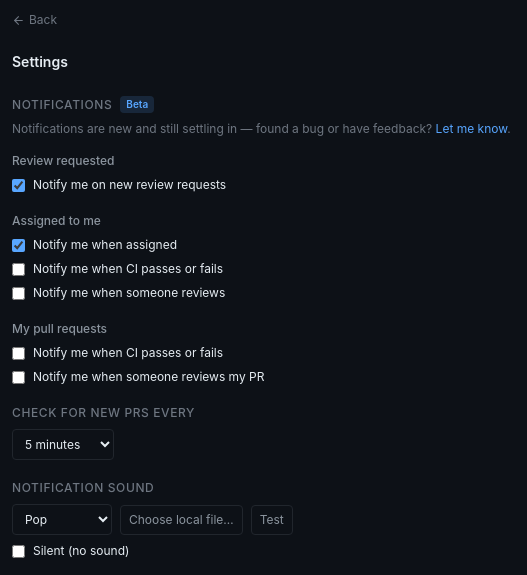
Test: SettingsPage › GIVEN silent unchecked WHEN toggled THEN the store updates and the sound controls disable
This screenshot has width=527, height=575.
Click the checkbox labelled "Silent (no sound)": x=18, y=551 [12, 545, 25, 558]
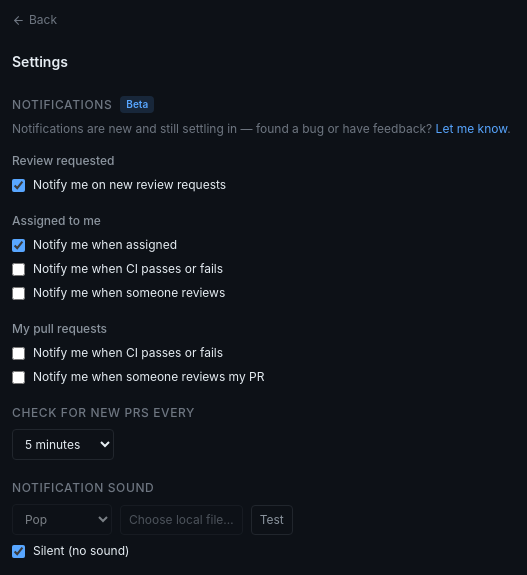
Expected: the dropdown labelled "Notification sound" is disabled, [12, 504, 112, 535]
